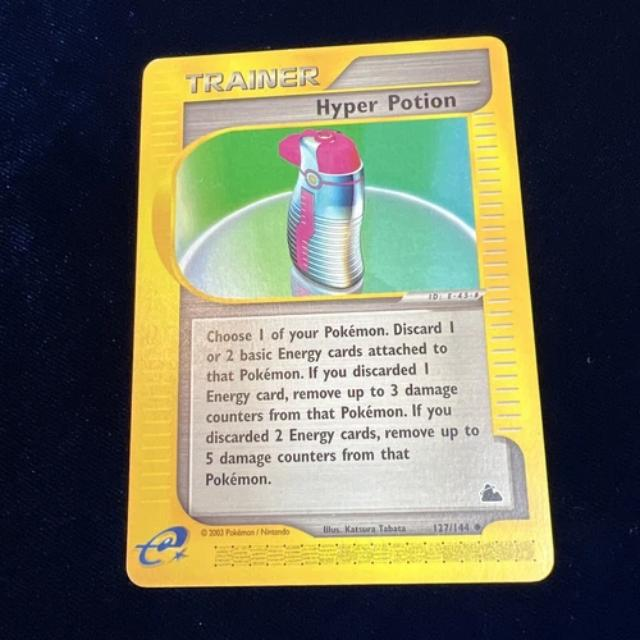Card: (115, 29, 565, 595)
Name: (303, 85, 468, 123)
